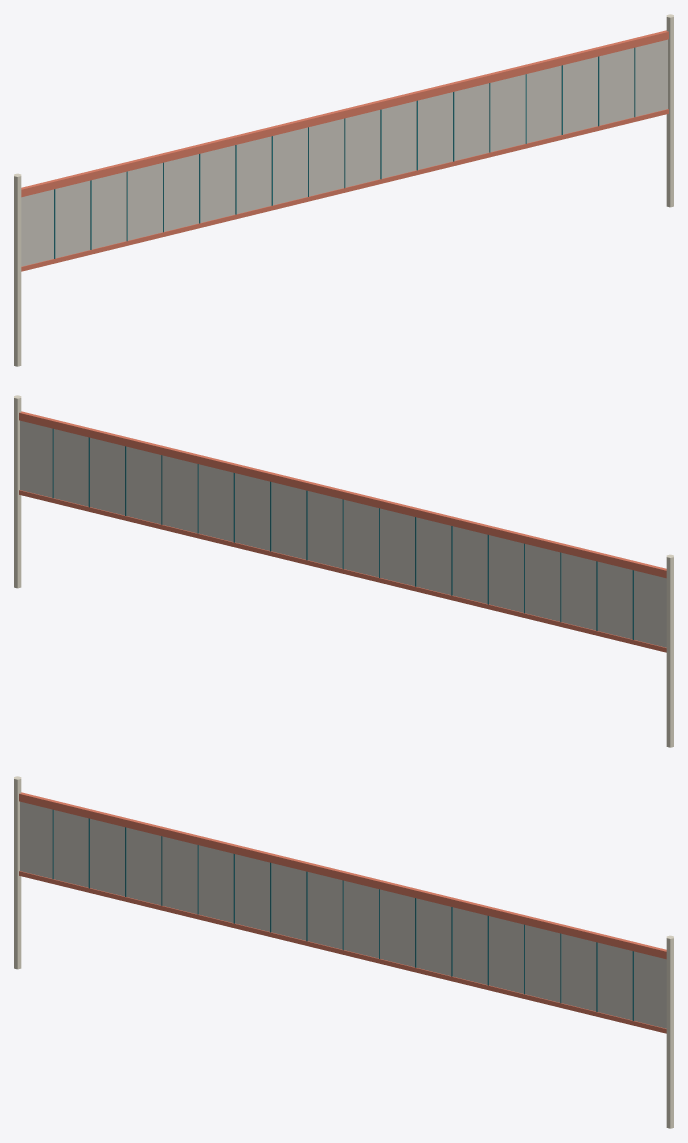
File: vball_net.glb
3 renders of one model, top to bottom at view 1: azimuth 30°, elevation 25°; view 2: azimuth 150°, elevation 25°; view 3: azimuth 330°, elevation 25°, orthographic.
Visible parts, largest first — view 1: vball_net; view 2: vball_net; view 3: vball_net.
Part boxes in pixels (x1,y1,x2,y2): vball_net: (14,14,673,366); vball_net: (14,395,673,747); vball_net: (14,776,673,1128).
Size of the model in its own units: 9.1 by 2.5 by 0.0866.
